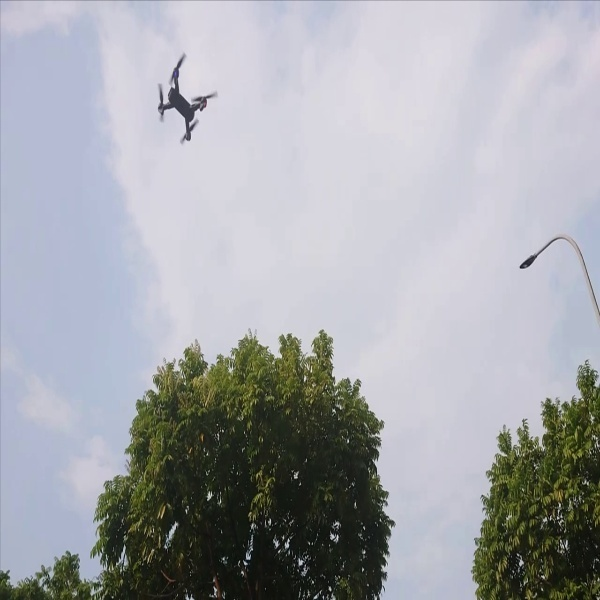drone: (148, 49, 222, 143)
